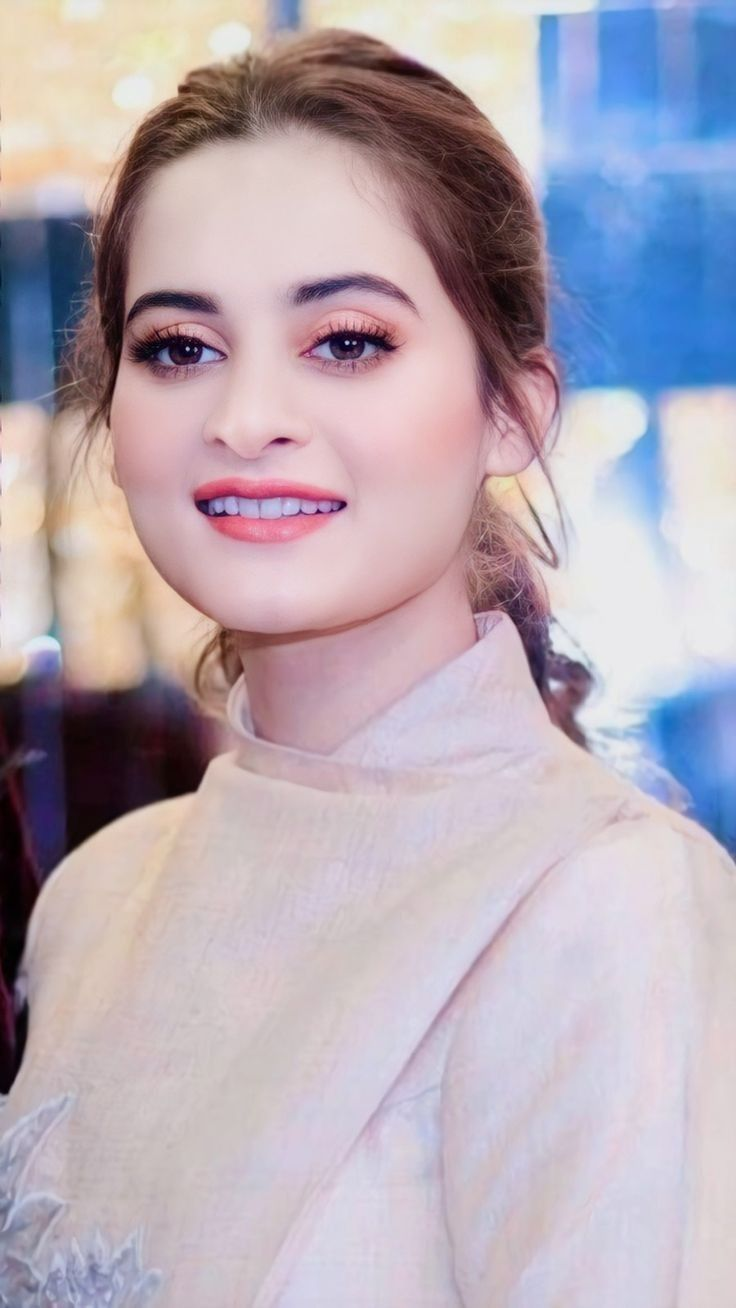NoMask: (112, 252, 436, 650)
